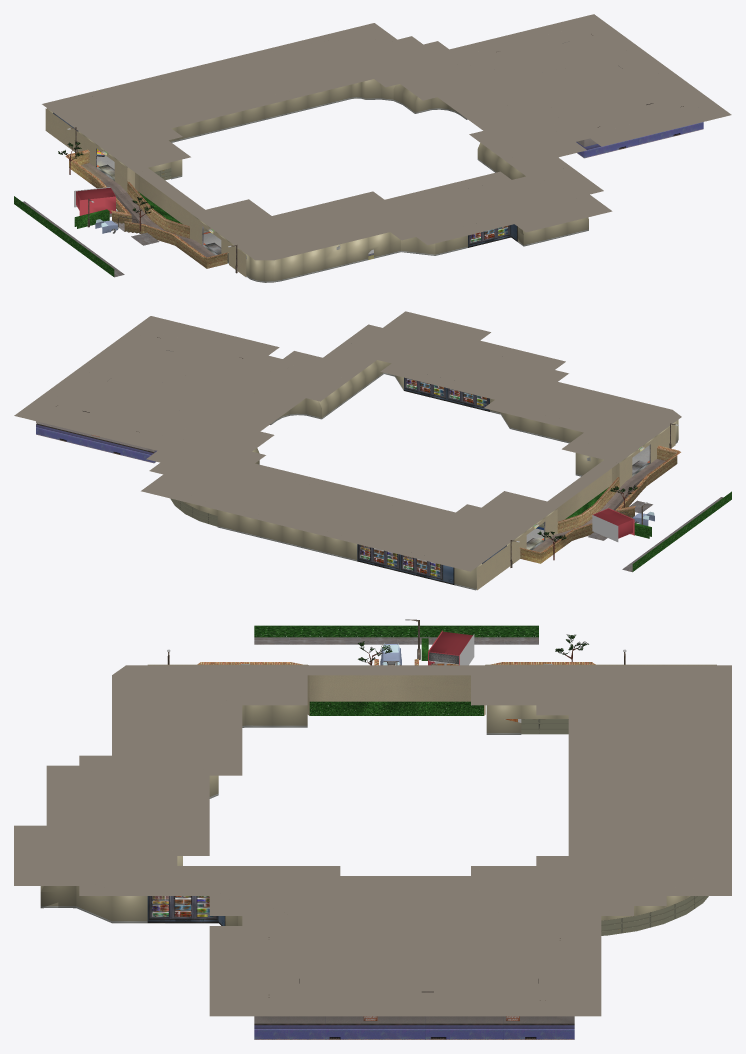
3 renders of one model, top to bottom at view 1: azimuth 30°, elevation 25°; view 2: azimuth 150°, elevation 25°; view 3: azimuth 270°, elevation 25°, orthographic. The views are drawn at different scales.
Visible parts, largest first — view 1: milk_ff.prm.001, milk_ff.prm.007, milk_ff.prm.002, milk_ff.prm.006, milk_ff.prm.008, milk_ff.prm.003; view 2: milk_ff.prm.001, milk_ff.prm.007, milk_ff.prm.006, milk_ff.prm.002, milk_ff.prm.008, milk_ff.prm.003, milk_ff.prm.010; view 3: milk_ff.prm.001, milk_ff.prm.006, milk_ff.prm.002, milk_ff.prm.007, milk_ff.prm.010, milk_ff.prm.008, milk_ff.prm.003.
Boxes of the visible parts, bbox=[...] form: milk_ff.prm.001: bbox=[42, 14, 731, 260]; milk_ff.prm.007: bbox=[47, 79, 588, 282]; milk_ff.prm.002: bbox=[14, 141, 228, 276]; milk_ff.prm.006: bbox=[45, 34, 703, 277]; milk_ff.prm.008: bbox=[53, 112, 517, 247]; milk_ff.prm.003: bbox=[23, 118, 467, 277]; milk_ff.prm.001: bbox=[14, 311, 681, 571]; milk_ff.prm.007: bbox=[183, 360, 678, 590]; milk_ff.prm.006: bbox=[36, 337, 675, 590]; milk_ff.prm.002: bbox=[519, 445, 731, 571]; milk_ff.prm.008: bbox=[357, 377, 506, 584]; milk_ff.prm.003: bbox=[270, 424, 723, 572]; milk_ff.prm.010: bbox=[107, 350, 543, 530]; milk_ff.prm.001: bbox=[14, 619, 731, 1016]; milk_ff.prm.006: bbox=[148, 619, 716, 1039]; milk_ff.prm.002: bbox=[197, 625, 595, 715]; milk_ff.prm.007: bbox=[40, 705, 690, 925]; milk_ff.prm.010: bbox=[437, 663, 708, 935]; milk_ff.prm.008: bbox=[147, 896, 225, 925]; milk_ff.prm.003: bbox=[254, 637, 538, 644].
Bounding box in the file's own units: 277 × 18.21 × 202.
Materials: 11 (10 with a texture image).
